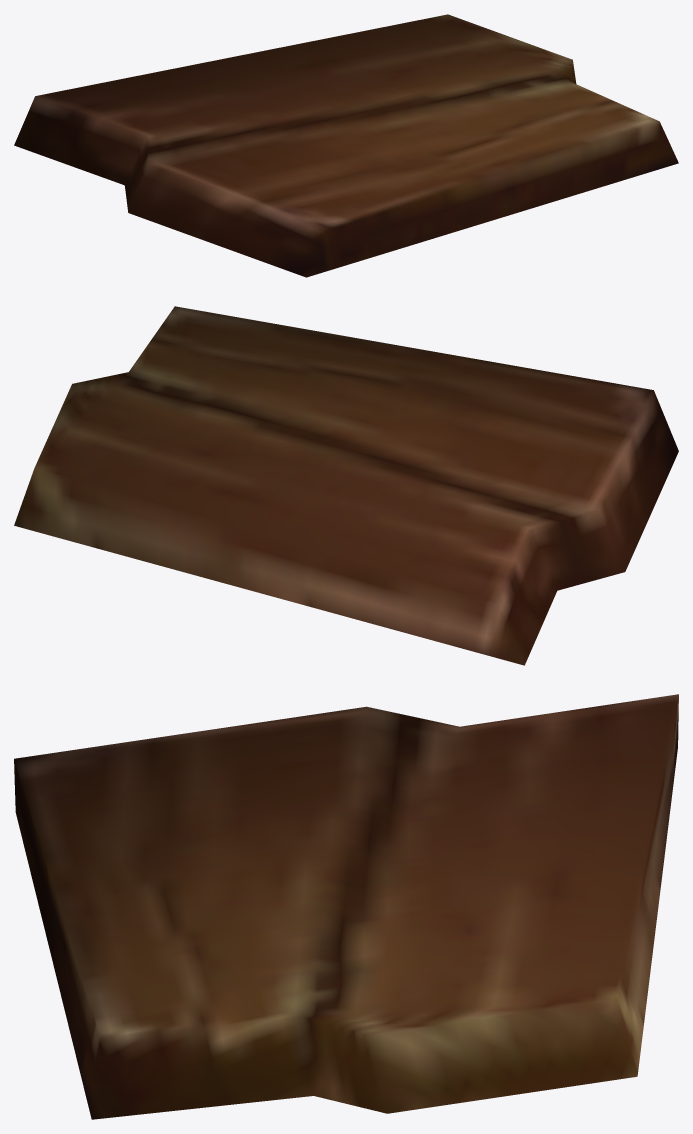
The model's file is MuBan01.FBX.
3 renders of one model, top to bottom at view 1: azimuth 30°, elevation 25°; view 2: azimuth 150°, elevation 25°; view 3: azimuth 270°, elevation 25°, orthographic. The views are drawn at different scales.
Parts seen in each view (by area): view 1: MuBan01; view 2: MuBan01; view 3: MuBan01.
Part boxes in pixels (x1,y1,x2,y2): MuBan01: [14, 14, 678, 277]; MuBan01: [14, 306, 678, 665]; MuBan01: [14, 694, 678, 1119].
Size of the model in its own units: 38.81 by 3.39 by 29.28.
